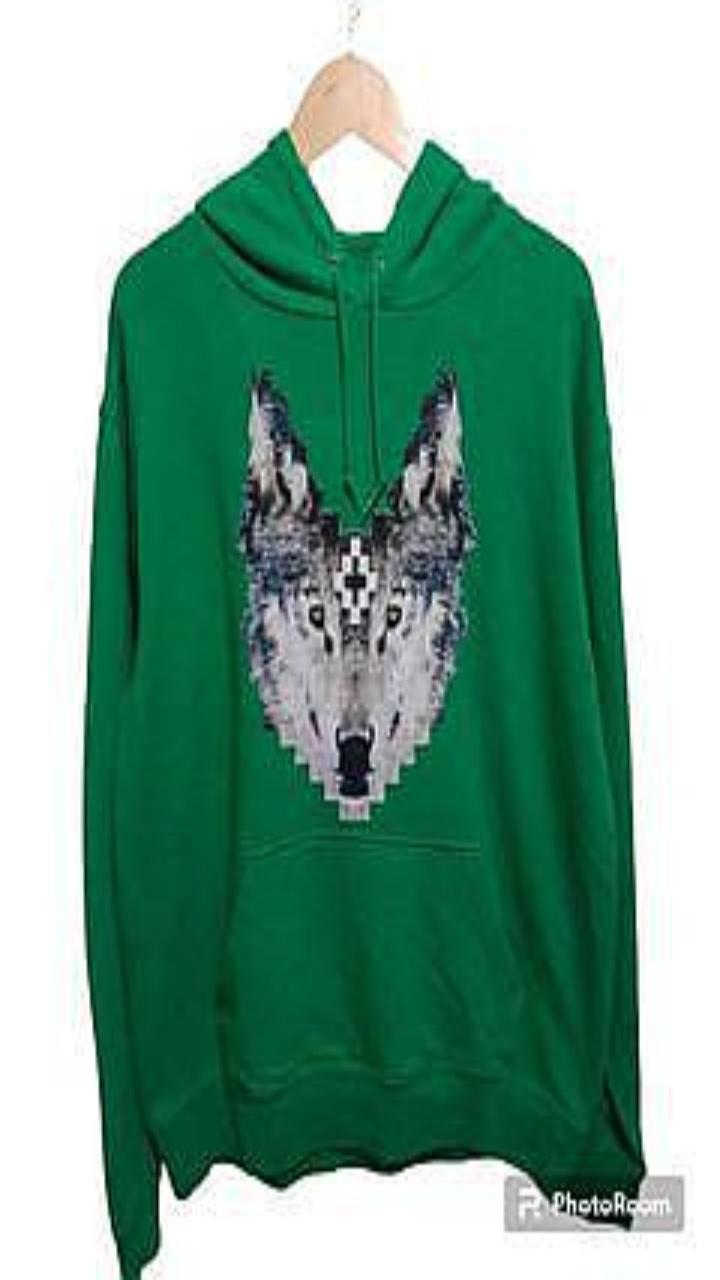Hoodie: (84, 130, 643, 1279)
